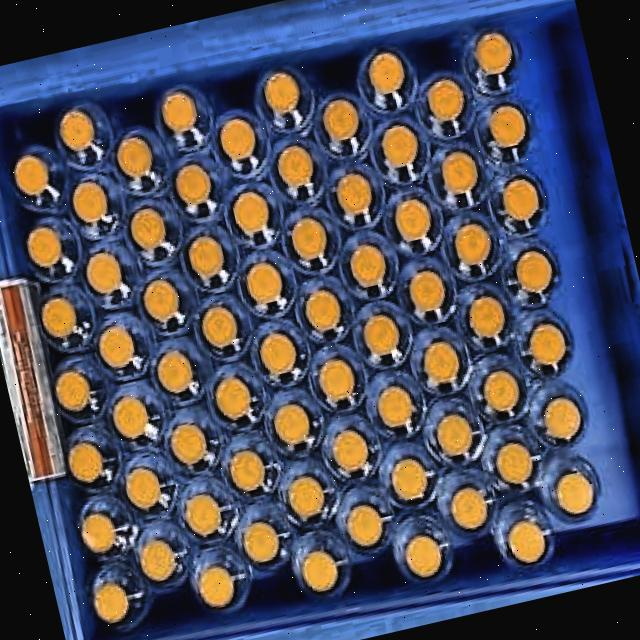vial: (484, 101, 529, 150), (541, 396, 583, 439), (472, 28, 511, 74), (442, 149, 480, 196), (449, 485, 489, 529), (141, 279, 181, 323), (337, 169, 376, 214), (393, 197, 432, 240), (331, 427, 369, 471), (348, 244, 385, 289), (12, 154, 51, 196), (496, 441, 534, 484), (317, 360, 355, 403), (185, 492, 222, 536), (66, 441, 104, 483), (58, 108, 95, 151), (426, 78, 463, 121), (368, 51, 405, 94), (485, 370, 521, 414), (201, 306, 237, 350), (382, 122, 418, 166), (197, 564, 234, 606), (287, 476, 324, 518), (170, 423, 207, 465), (273, 403, 310, 445), (276, 145, 313, 187), (362, 314, 399, 356), (529, 323, 565, 366), (405, 534, 441, 577), (264, 69, 299, 113), (229, 447, 263, 492), (292, 216, 326, 261), (423, 340, 460, 381), (24, 225, 61, 266), (233, 191, 270, 232), (392, 457, 428, 499), (126, 467, 162, 509), (515, 251, 551, 293), (559, 471, 594, 514), (437, 411, 472, 454), (139, 538, 174, 581), (189, 235, 224, 278), (84, 250, 119, 293), (91, 583, 129, 622), (509, 522, 545, 563), (346, 505, 382, 546), (80, 510, 116, 551), (260, 333, 296, 374), (116, 134, 152, 175), (41, 298, 76, 340), (243, 522, 279, 562), (503, 177, 538, 218), (325, 96, 359, 138), (217, 375, 250, 418), (246, 264, 283, 302), (302, 551, 338, 590), (304, 290, 339, 330), (219, 116, 254, 156), (378, 384, 411, 426), (74, 179, 107, 221), (409, 269, 441, 312), (99, 328, 133, 368), (159, 352, 192, 393), (454, 223, 487, 264), (114, 398, 149, 436), (130, 208, 164, 247), (471, 295, 503, 336), (55, 372, 88, 411), (175, 163, 208, 202), (162, 91, 195, 129)
